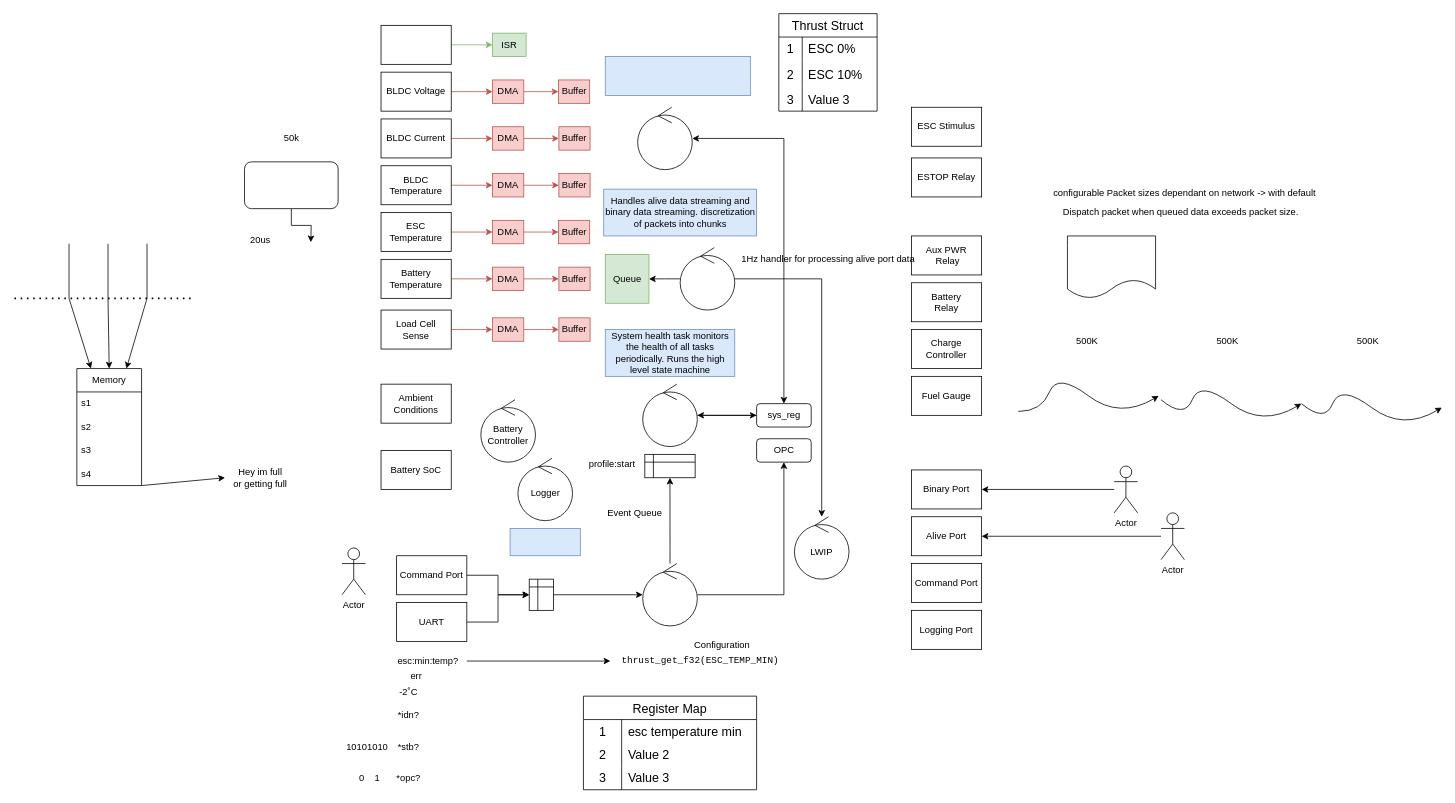
Image size: 1455x803. Some labels were removed from this diagram. The centre of each missing label's shape, as x and y in pixels:
4KB: the point at 1111,266
ADC_CONV_CPLT: the point at 291,185
Command Server: the point at 669,594
Emit logs: the point at 544,542
Manages thrust sequencing and emergency stop. Low Latency!: the point at 677,76
RPM counter: the point at 415,44
Stream Handler: the point at 707,278
Supervisor: the point at 669,415
Thrust Controller: the point at 664,138
